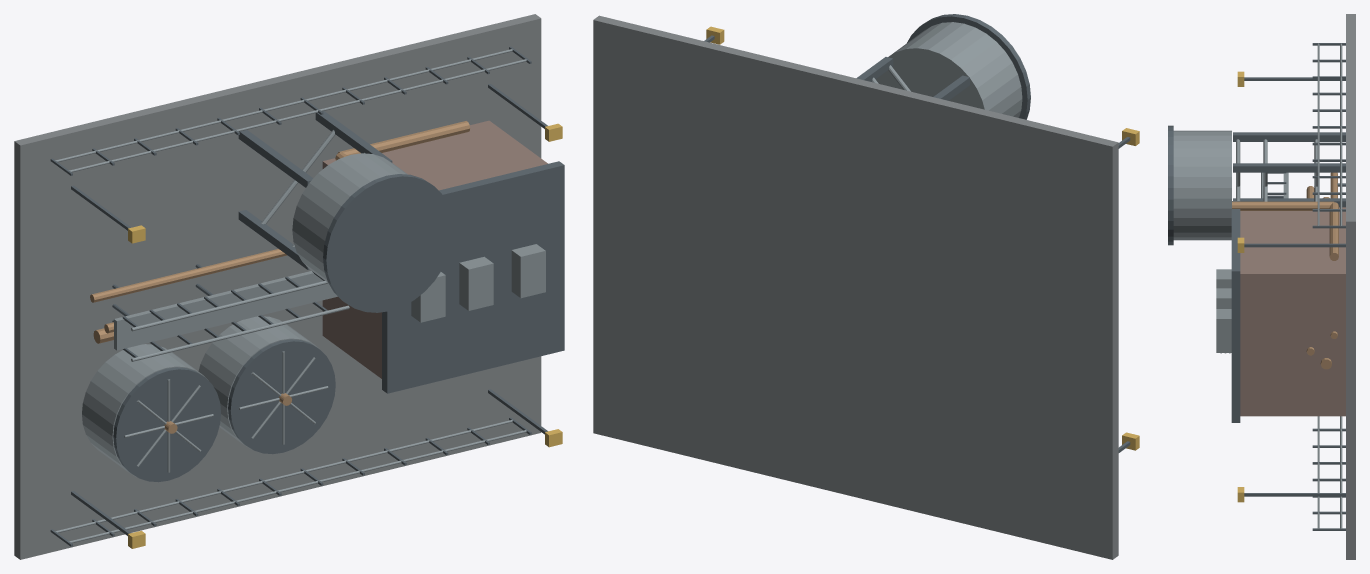
The model's file is powerquest_water_treatment.glb.
The picture shows the model from 3 angles, left to right: view 1: azimuth 30°, elevation 25°; view 2: azimuth 150°, elevation 25°; view 3: azimuth 270°, elevation 25°; orthographic projection. The views are drawn at different scales.
Parts seen in each view (by area): view 1: 000_reinforced_foundation, 026_roof, 038_reservoir_cap, 025_pump_hall, 003_tank_rim_0, 015_tank_rim_1, 067_steel_catwalk, 037_raised_reservoir, 001_filtration_tank_0, 013_filtration_tank_1, 061_supply_pipe, 090_rooftop_vent (+12 smaller); view 2: 000_reinforced_foundation, 037_raised_reservoir, 038_reservoir_cap; view 3: 025_pump_hall, 037_raised_reservoir, 000_reinforced_foundation, 026_roof, 042_reservoir_support, 040_reservoir_support, 134_reservoir_downpipe, 038_reservoir_cap, 094_rooftop_vent, 124_fence_rail, 125_fence_rail, 128_floodlight_pole (+8 smaller).
Boxes of the visible parts, x1,y1,x2,y2 form: 000_reinforced_foundation: (14, 14, 541, 559); 026_roof: (382, 161, 564, 393); 038_reservoir_cap: (323, 174, 453, 312); 025_pump_hall: (322, 120, 547, 378); 003_tank_rim_0: (113, 367, 220, 482); 015_tank_rim_1: (228, 339, 335, 454); 067_steel_catwalk: (114, 271, 337, 350); 037_raised_reservoir: (292, 153, 407, 282); 001_filtration_tank_0: (82, 344, 208, 477); 013_filtration_tank_1: (198, 316, 320, 449); 061_supply_pipe: (90, 249, 286, 302); 090_rooftop_vent: (459, 256, 493, 310); 000_reinforced_foundation: (593, 15, 1118, 559); 037_raised_reservoir: (875, 22, 1022, 117); 038_reservoir_cap: (907, 14, 1030, 119); 025_pump_hall: (1240, 207, 1345, 416); 037_raised_reservoir: (1173, 130, 1231, 240); 000_reinforced_foundation: (1346, 14, 1355, 559); 026_roof: (1231, 201, 1240, 422); 042_reservoir_support: (1233, 163, 1345, 172); 040_reservoir_support: (1233, 132, 1345, 141); 134_reservoir_downpipe: (1232, 201, 1334, 210); 038_reservoir_cap: (1168, 125, 1173, 245); 094_rooftop_vent: (1216, 309, 1231, 352); 124_fence_rail: (1340, 43, 1342, 225); 125_fence_rail: (1317, 43, 1319, 225); 128_floodlight_pole: (1244, 243, 1345, 247).
Bounding box in the file's own units: 25 × 19 × 9.56.
